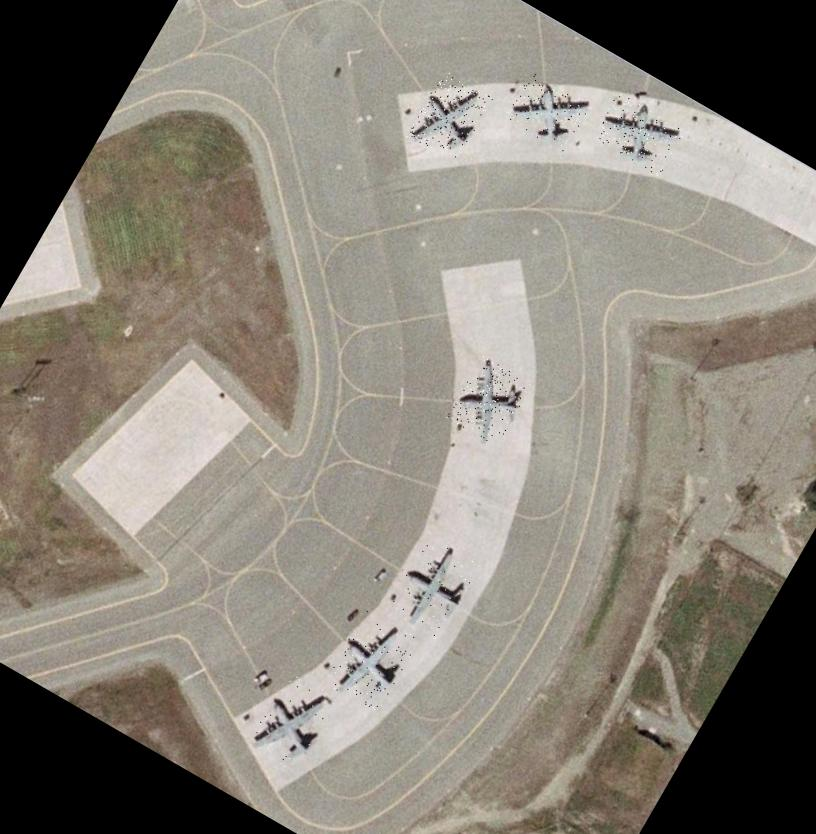A2: (322, 608, 419, 714), (386, 535, 482, 641), (244, 671, 338, 774), (404, 70, 493, 165), (590, 91, 686, 177), (445, 356, 532, 446), (504, 71, 592, 154)
